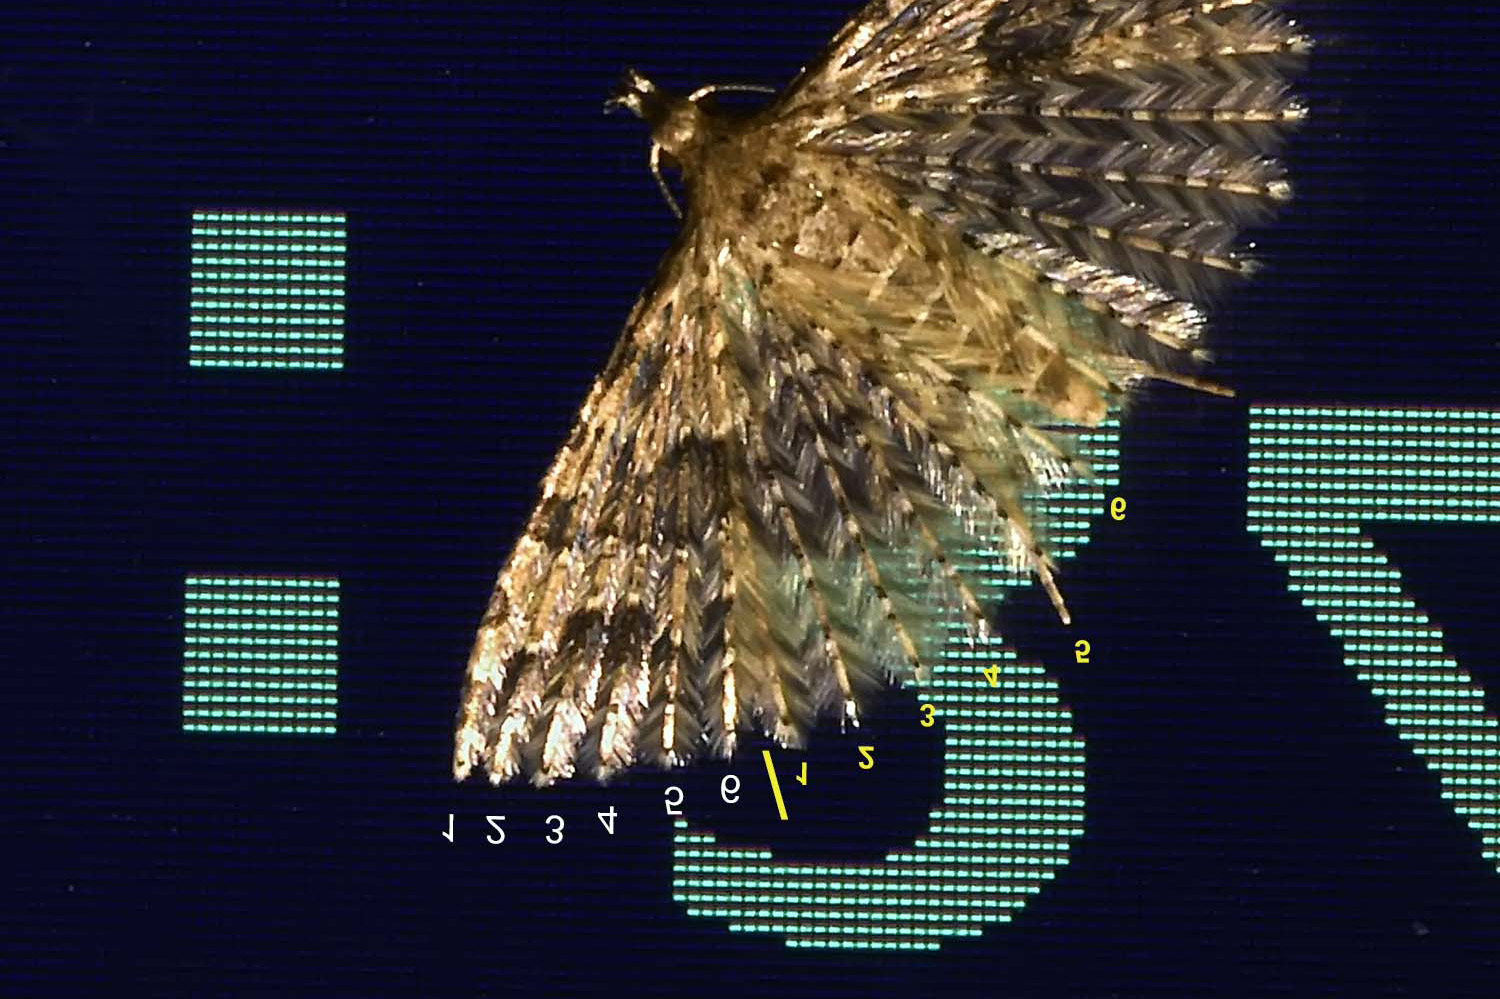Alucitidae: (419, 3, 1308, 786)
moth: (421, 4, 1311, 788)
